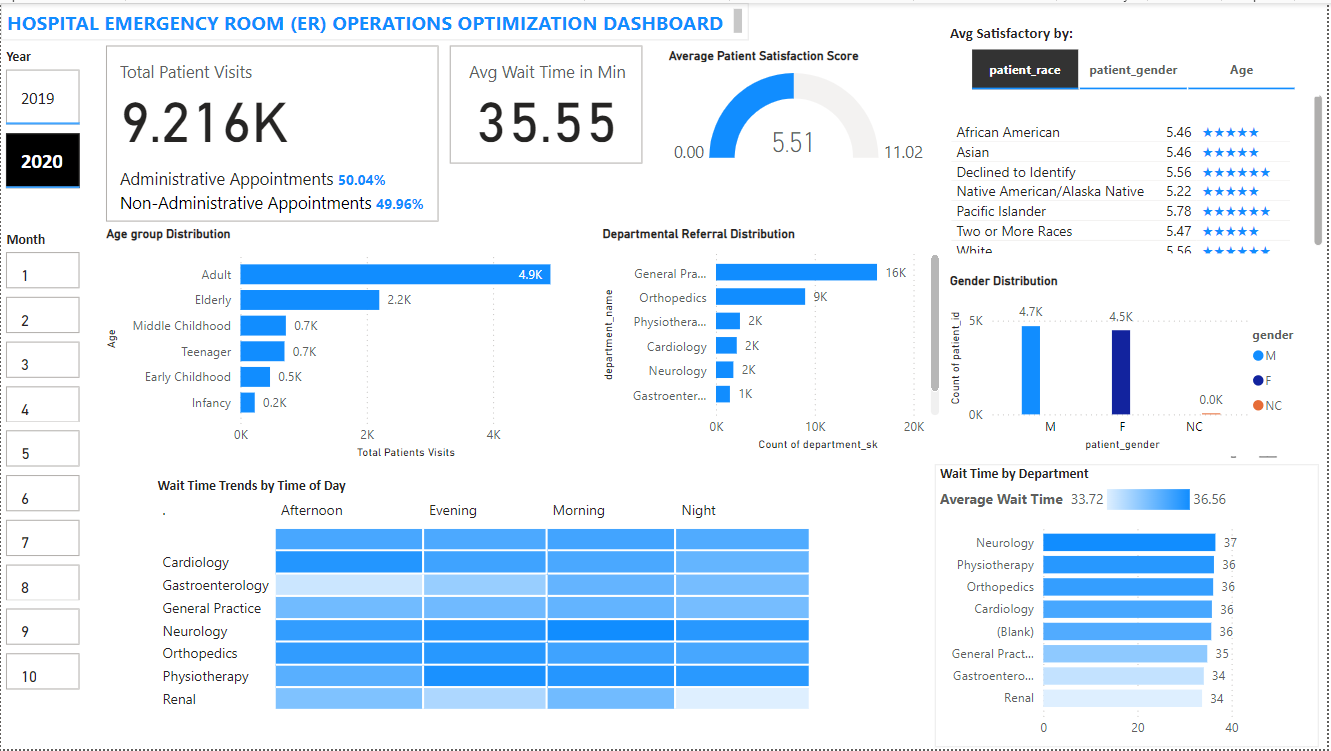

This screenshot's page, from the dashboard's own definition file:
{"tool":"powerbi","page":{"name":"Page 1","canvas":[1280,720],"ordinal":0},"visuals":[{"type":"cardVisual","fields":{"Data":["CountNonNull(Dim_Patient.patient_id)"]},"box":[96.7,36.4,331.6,180],"z":0},{"type":"cardVisual","fields":{"Data":["Measures (2).Average Wait Time"]},"box":[428.3,36.4,196.8,124.1],"z":1000},{"type":"advancedSlicerVisual","title":"Year","fields":{"Values":["Dim_Date (2).year"]},"box":[0,43.4,81.6,141],"z":2000},{"type":"advancedSlicerVisual","title":"Month","fields":{"Values":["Dim_Date (2).month"]},"box":[0,219,81.6,451.3],"z":3000},{"type":"tableEx","fields":{"Values":["Dim_Patient.patient_race","Measures (2).Average Patient Satisfaction Score","Measures (2).Score Rating"]},"box":[910.6,83.3,369.8,163.2],"z":4000},{"type":"slicer","title":"Avg Satisfactory by:","fields":{"Values":["Parameter.Parameter"]},"box":[910.9,12.1,361.9,78.4],"z":5000},{"type":"clusteredBarChart","title":"Wait Time by Department","fields":{"Y":["Measures (2).Average Wait Time"],"Category":["Dim_Department.department_name"]},"box":[901.8,445.1,369.8,272.2],"z":6000},{"type":"pivotTable","title":"Wait Time Trends by Time of Day","fields":{"Values":["Measures (2).Average Wait Time"],"Columns":["Dim_Date (2).time_of_day"],"Rows":["Dim_Department.department_name"]},"box":[145.4,457.5,692.5,240.3],"z":7000},{"type":"clusteredColumnChart","title":"Gender Distribution","fields":{"Y":["CountNonNull(Dim_Patient.patient_id)"],"Category":["Dim_Patient.patient_gender"],"Series":["Dim_Patient.patient_gender"]},"box":[910.6,260.7,361.8,176.5],"z":8000},{"type":"clusteredBarChart","title":" Departmental Referral Distribution","fields":{"Category":["Dim_Department.department_name"],"Y":["CountNonNull(Fact_PatientVisit.department_sk)"]},"box":[575.5,216.4,335.2,220.8],"z":9000},{"type":"clusteredBarChart","title":"Age group Distribution","fields":{"Category":["Dim_Patient.Age"],"Y":["Measures (2).Total Patients Visits"]},"box":[96.7,216.4,466.4,228.8],"z":10000},{"type":"gauge","fields":{"Y":["Measures (2).Average Patient Satisfaction Score"]},"box":[639.4,43.4,260.6,121.9],"z":11000},{"type":"textbox","box":[0,0,721.5,36.2],"z":11001}]}

Visuals, with their boxes in screenshot pixels (x1, y1, x2, y2), scaled from the page's 1280x720 canvas onto the 1331x751 screenshot:
cardVisual - CountNonNull(Dim_Patient.patient_id): bbox=[101, 38, 445, 226]
cardVisual - Measures (2).Average Wait Time: bbox=[445, 38, 650, 167]
"Year" advancedSlicerVisual: bbox=[0, 45, 85, 192]
"Month" advancedSlicerVisual: bbox=[0, 228, 85, 699]
tableEx - Dim_Patient.patient_race x Measures (2).Average Patient Satisfaction Score: bbox=[947, 87, 1330, 257]
"Avg Satisfactory by:" slicer: bbox=[947, 13, 1324, 94]
"Wait Time by Department" clusteredBarChart: bbox=[938, 464, 1322, 748]
"Wait Time Trends by Time of Day" pivotTable: bbox=[151, 477, 871, 728]
"Gender Distribution" clusteredColumnChart: bbox=[947, 272, 1323, 456]
" Departmental Referral Distribution" clusteredBarChart: bbox=[598, 226, 947, 456]
"Age group Distribution" clusteredBarChart: bbox=[101, 226, 586, 464]
gauge - Measures (2).Average Patient Satisfaction Score: bbox=[665, 45, 936, 172]
textbox: bbox=[0, 0, 750, 38]
